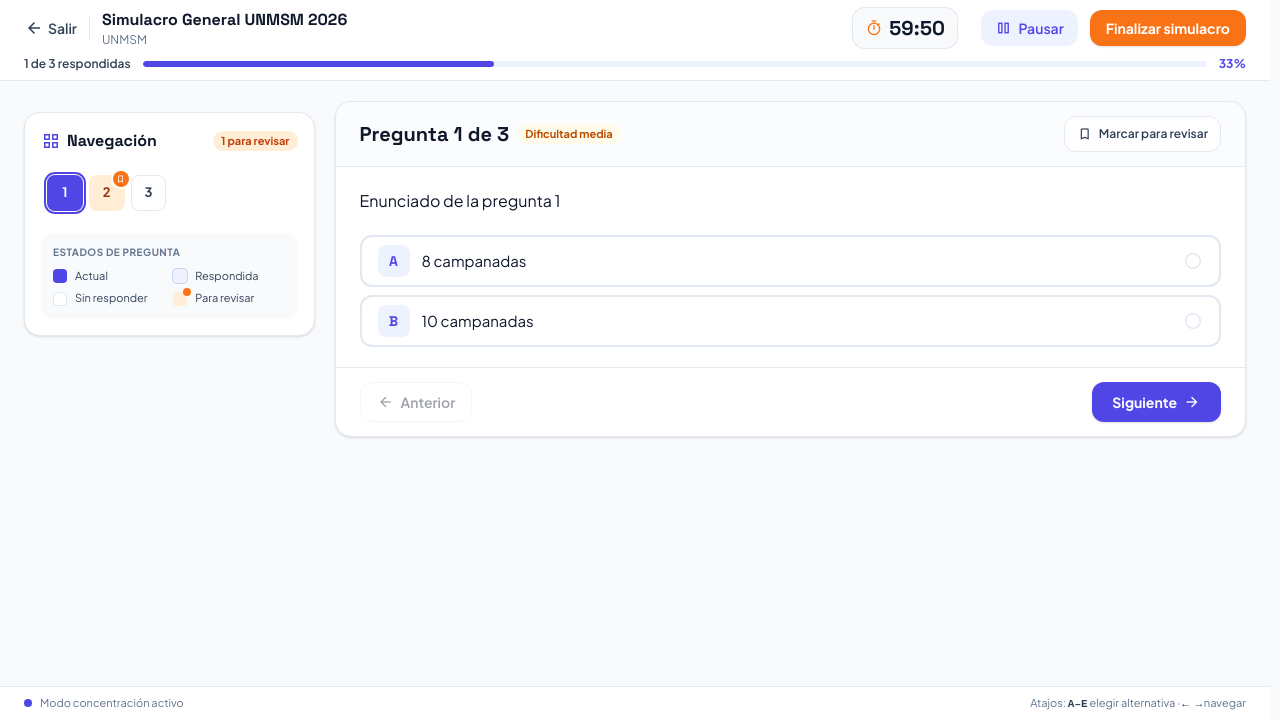
Test: SimulacroPage › muestra el nombre del examen, el progreso y guarda al elegir una alternativa
Expected: the heading "Simulacro General UNMSM 2026" is shown, [102,9,347,30]
Expected: the text "1 de 3 respondidas" is shown, [24,56,131,72]
Click the radio button labelled "B 10 campanadas". click: (394, 321)
box: [360,295,1221,347]
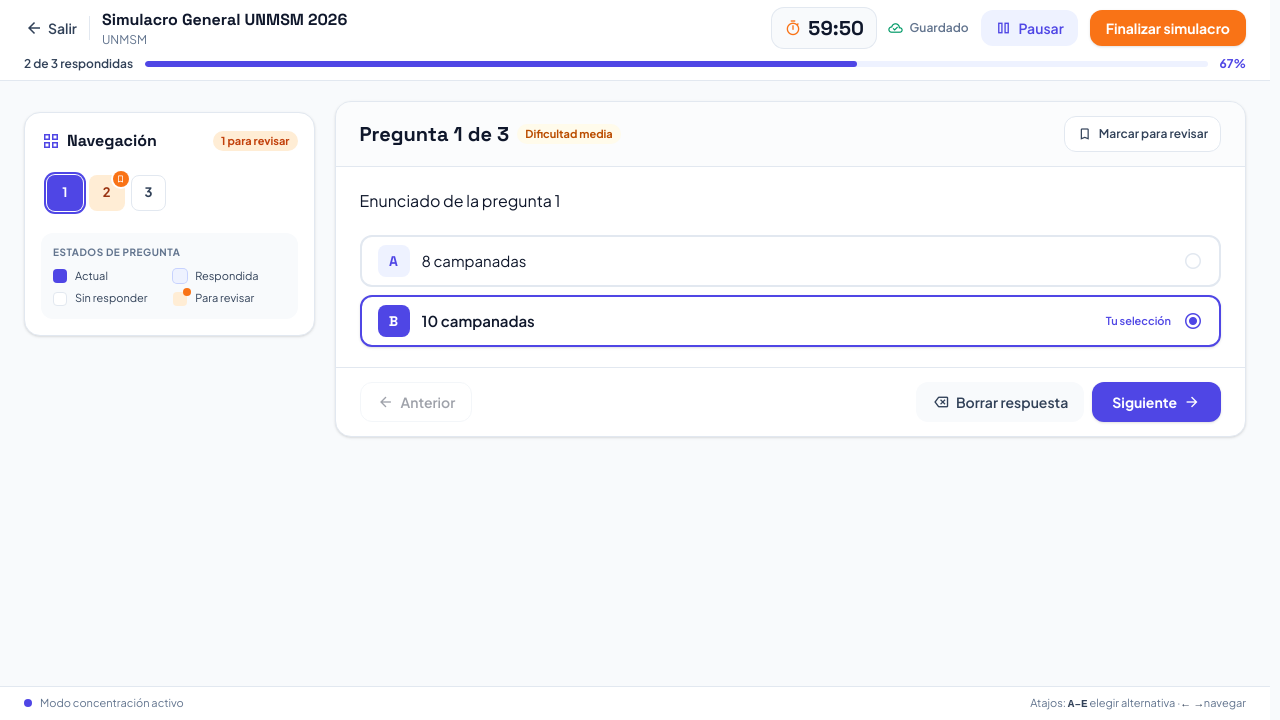
Expected: the text "2 de 3 respondidas" is shown, [24,56,133,72]
